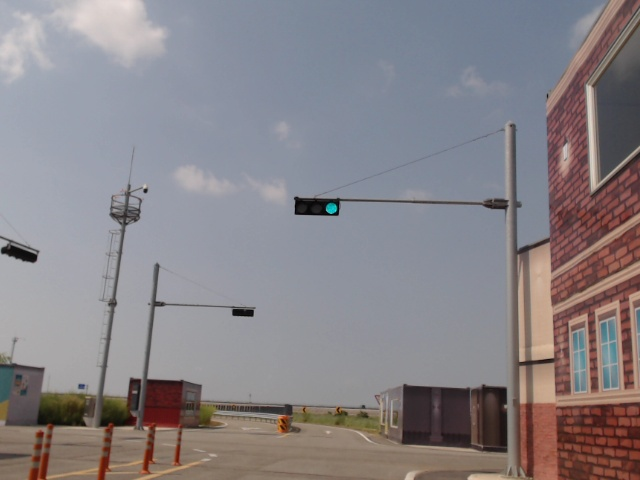green_3: (295, 198, 339, 216)
